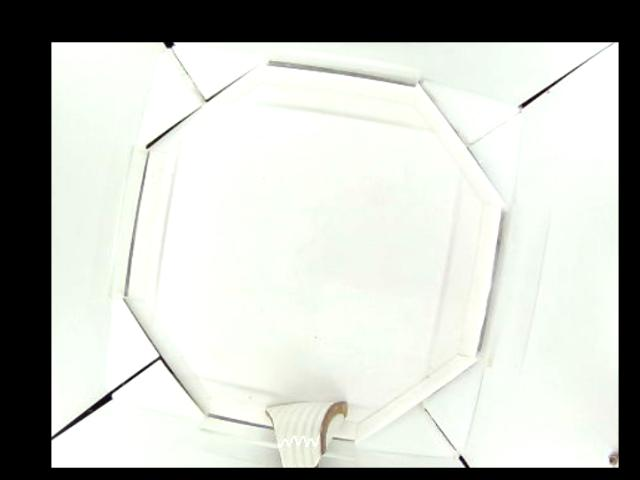China: (257, 397, 347, 467)
